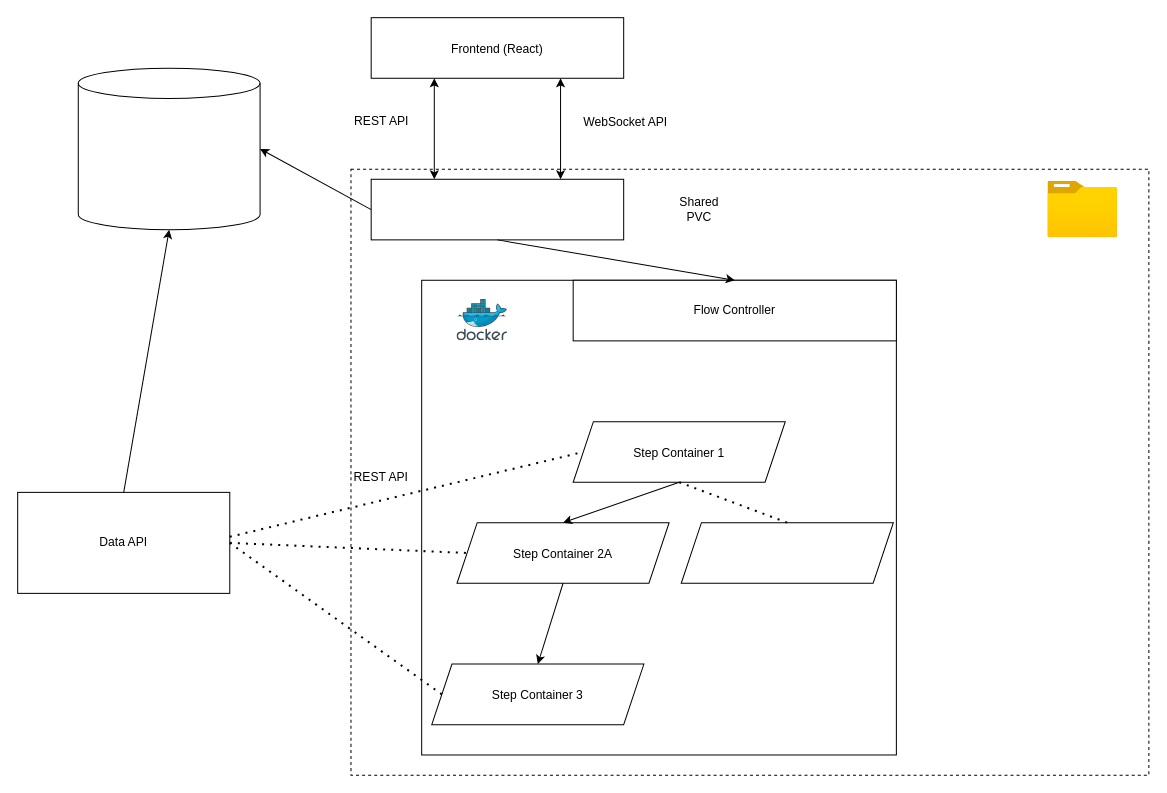
This 1167x793 diagram has some shape labels left out. The centre of each missing label's shape, as x and y in pixels:
Backend API: point 497,209
MongoDB: point 168,148
Step Container 2B: point 786,552
